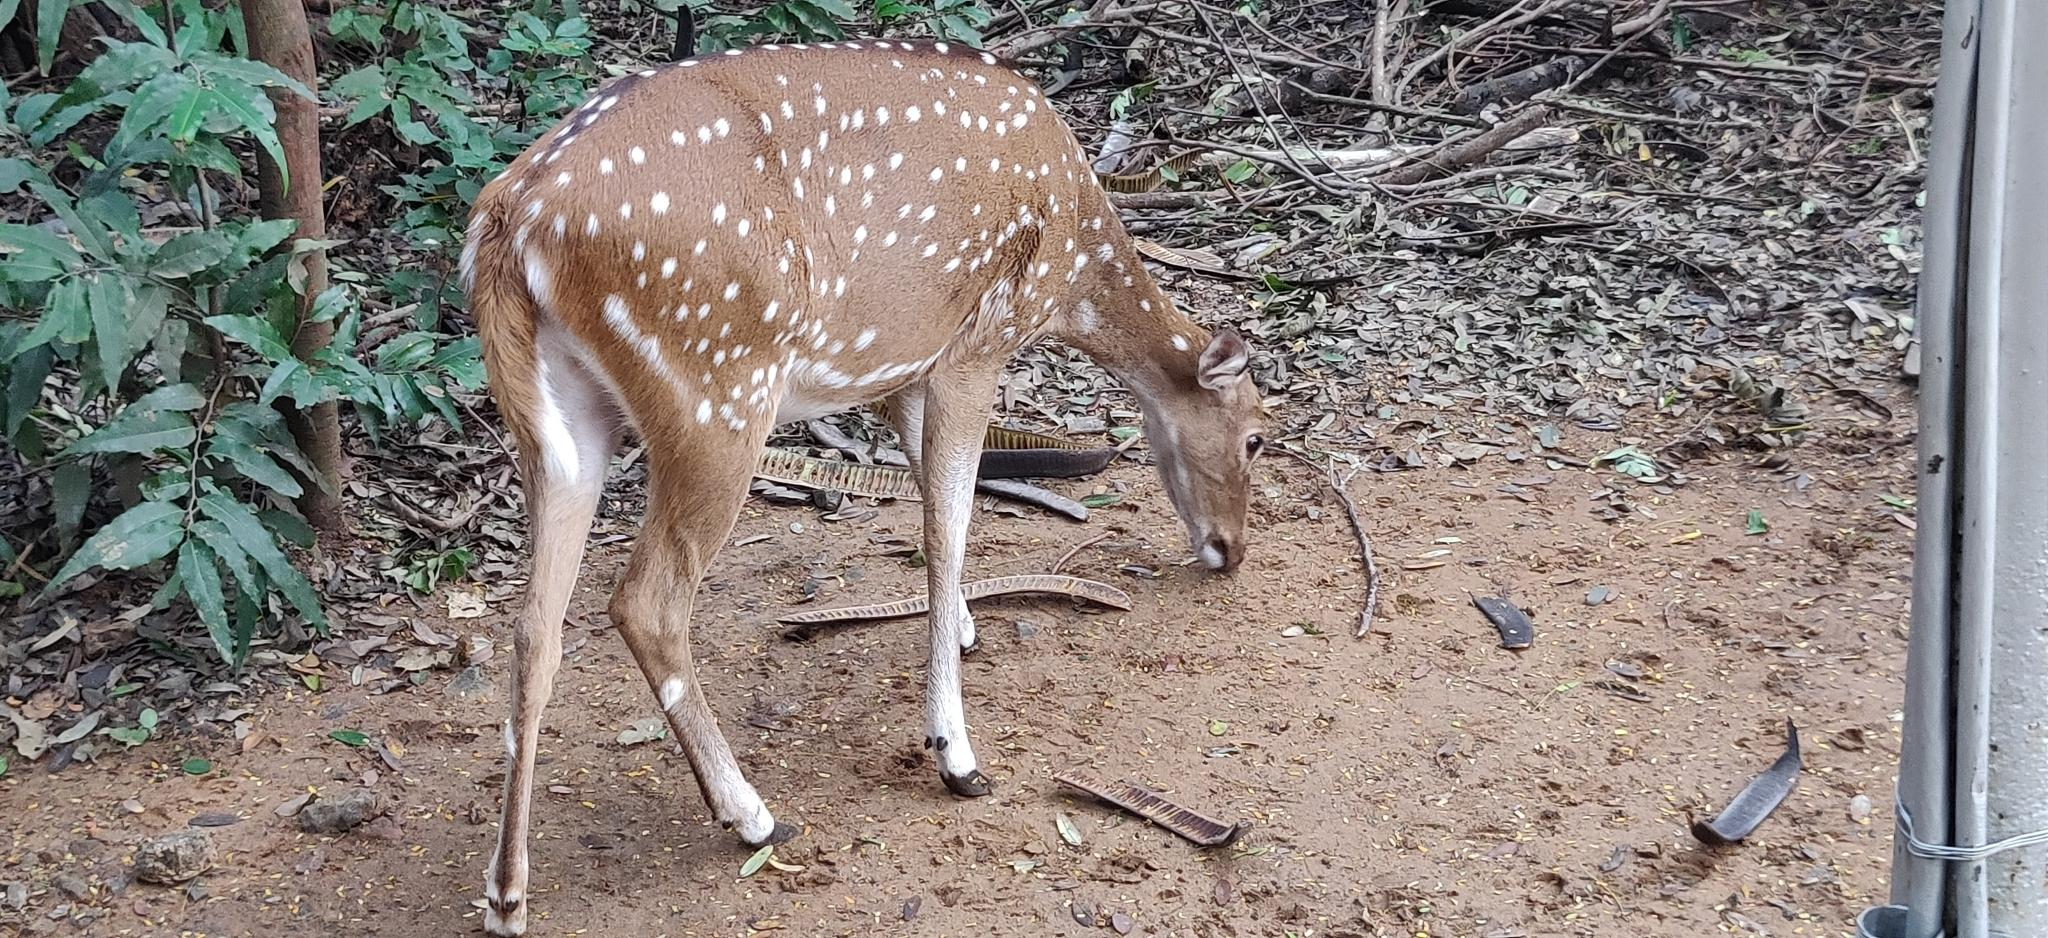Deer: (461, 39, 1266, 935)
